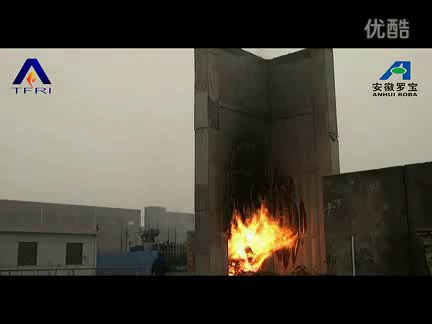fire: (224, 196, 299, 276)
